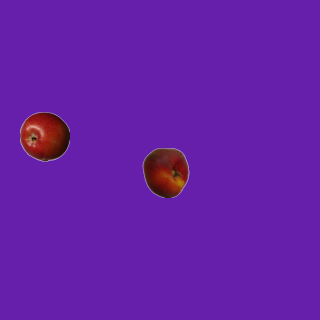Apple Braeburn: (19, 111, 69, 161)
Nectarine Flat: (140, 147, 190, 197)
